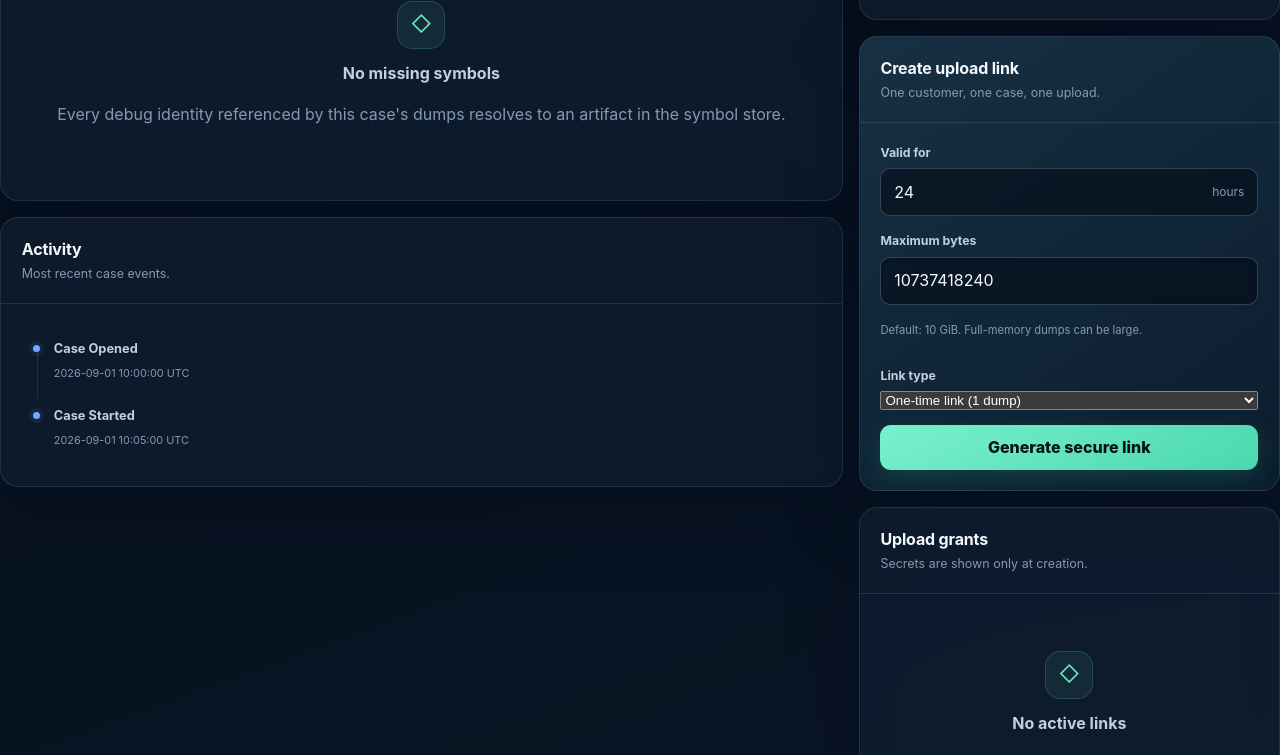
Upload grant operator flows › automatically issues a 128-slot grant when batch mode is selected
(page scrolled)
Step 1. Select "Batch link (up to 128 dumps)" in the dropdown labelled "Link type" → [1069, 400], box [880,391,1258,410]
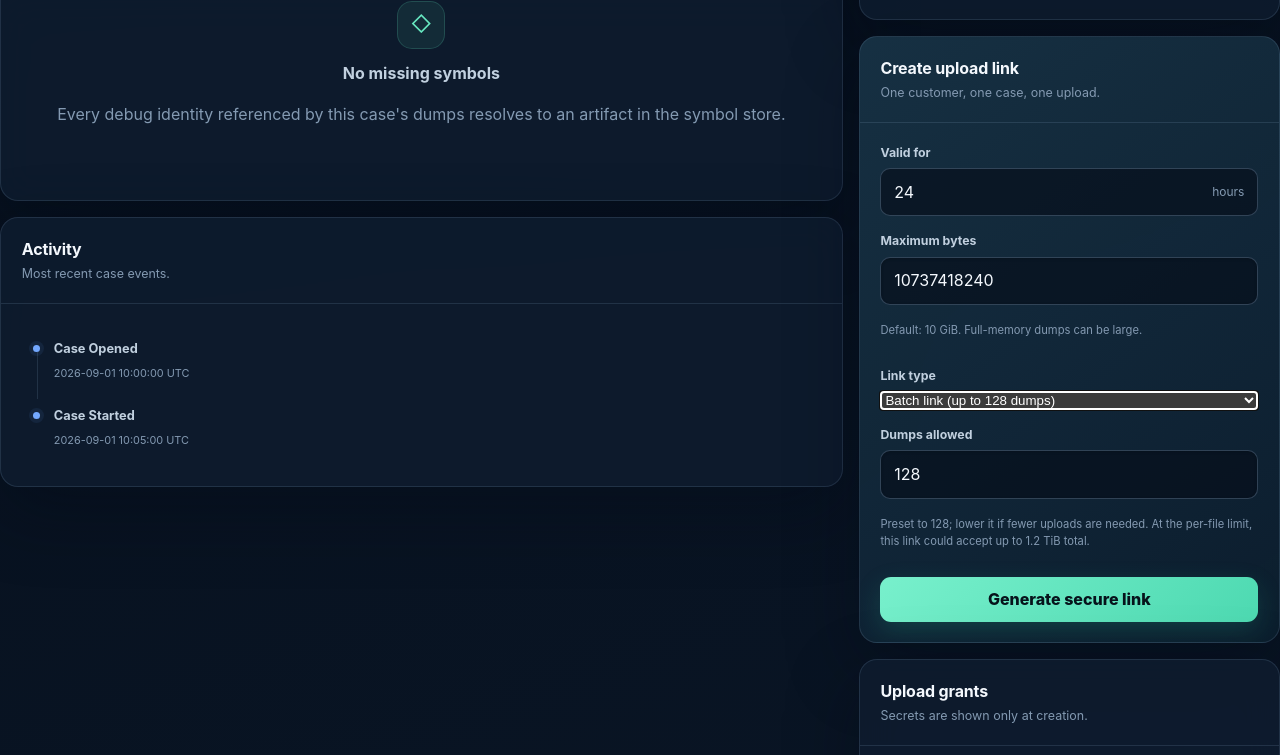
Step 2. Click the button "Generate secure link" → [1069, 599], box [880,577,1258,622]
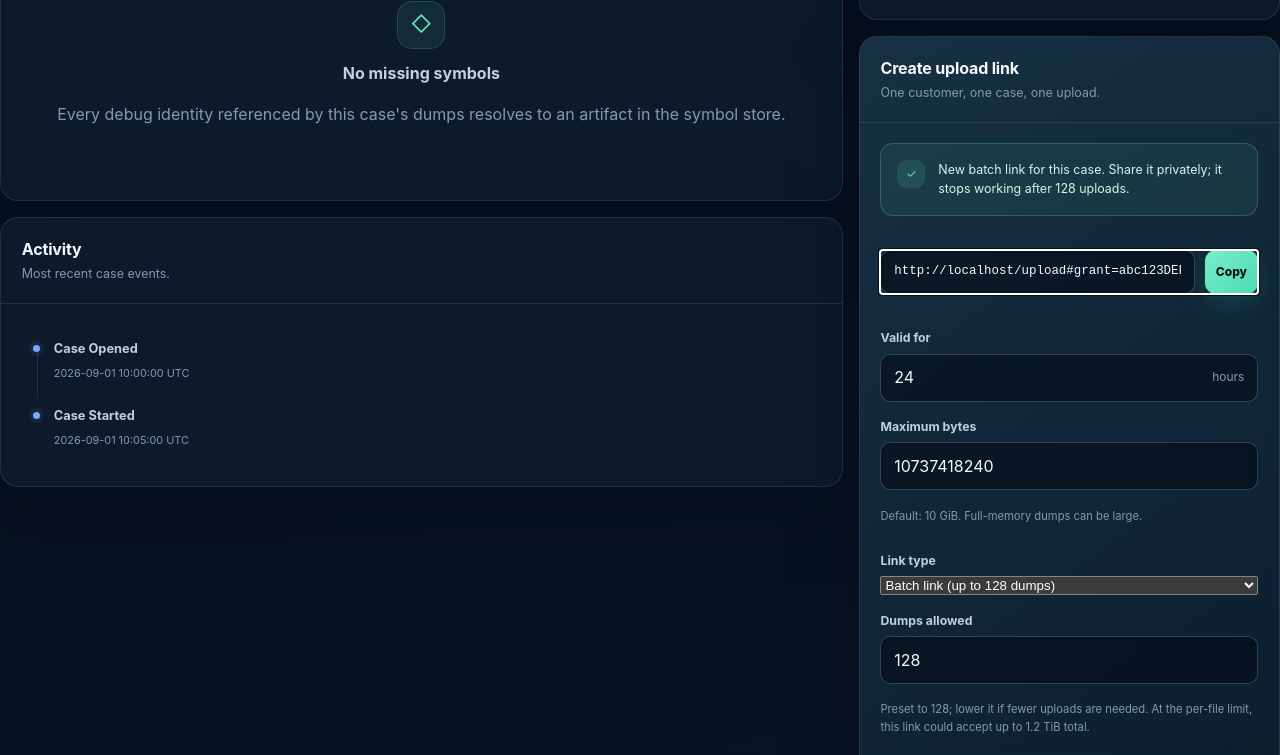
expect the text "stops working after 128 uploads" is shown: met, box [938,162,1222,196]
